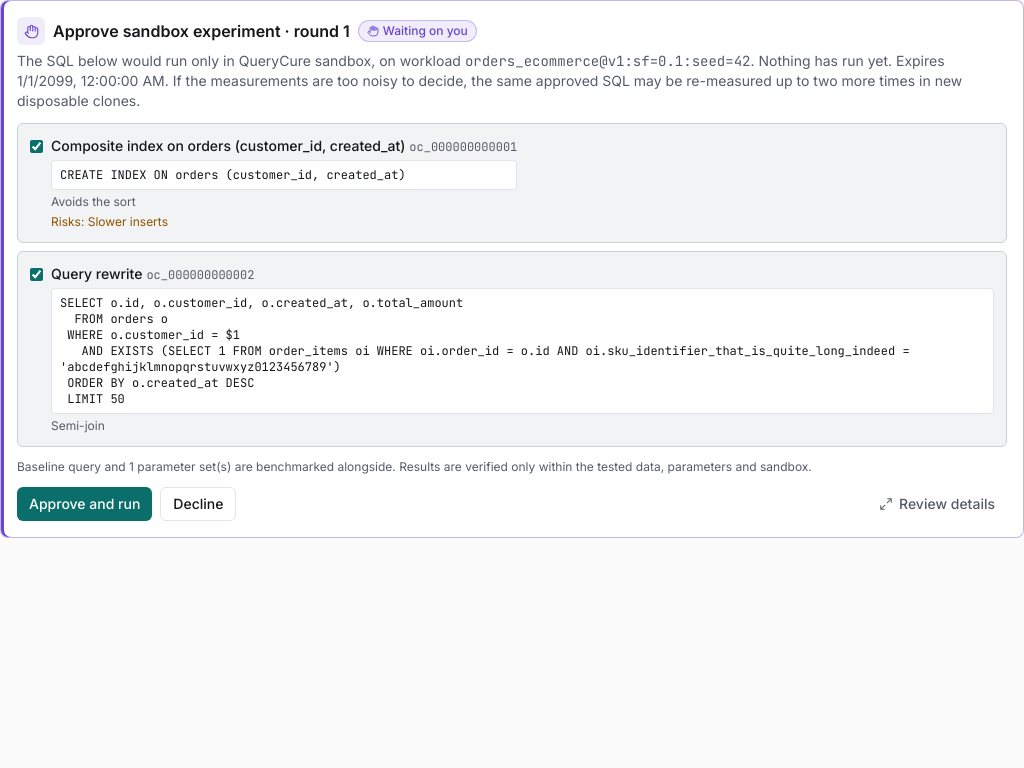
Scenario: a failed copy says so and points to selecting the text
This screenshot has width=1024, height=768.
Click the button "Review details". click: [937, 504]
box: [867, 487, 1007, 521]
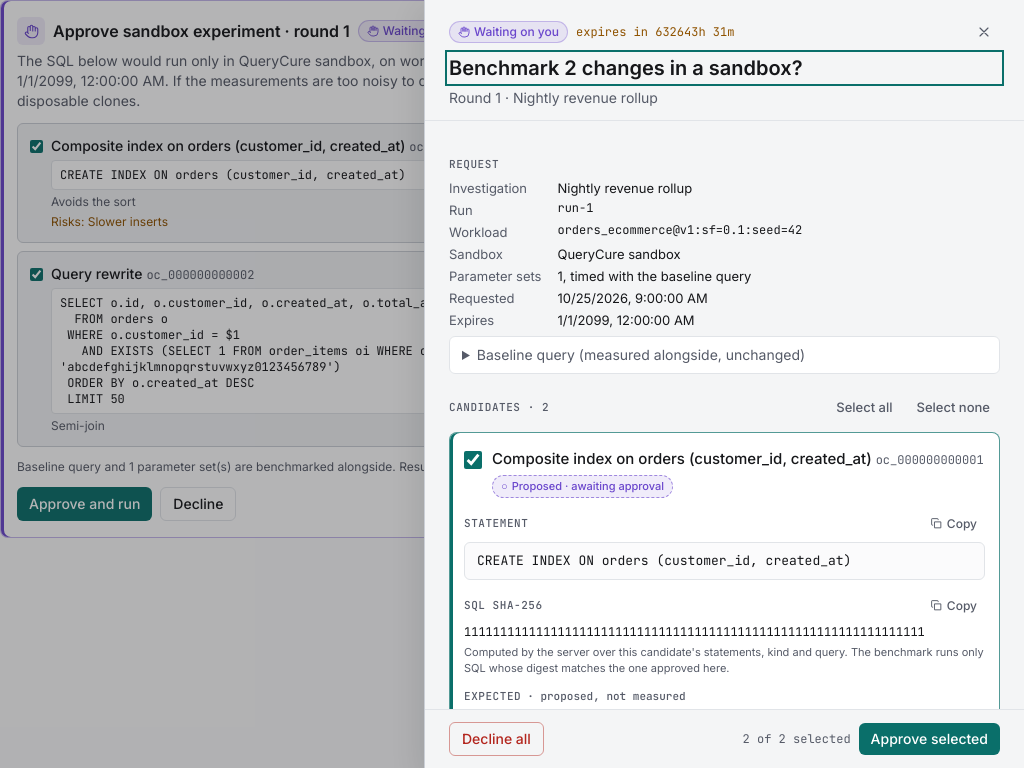
Click the button with aria-label "Copy statement · oc_000000000001". click: [953, 524]
box: [922, 510, 985, 538]
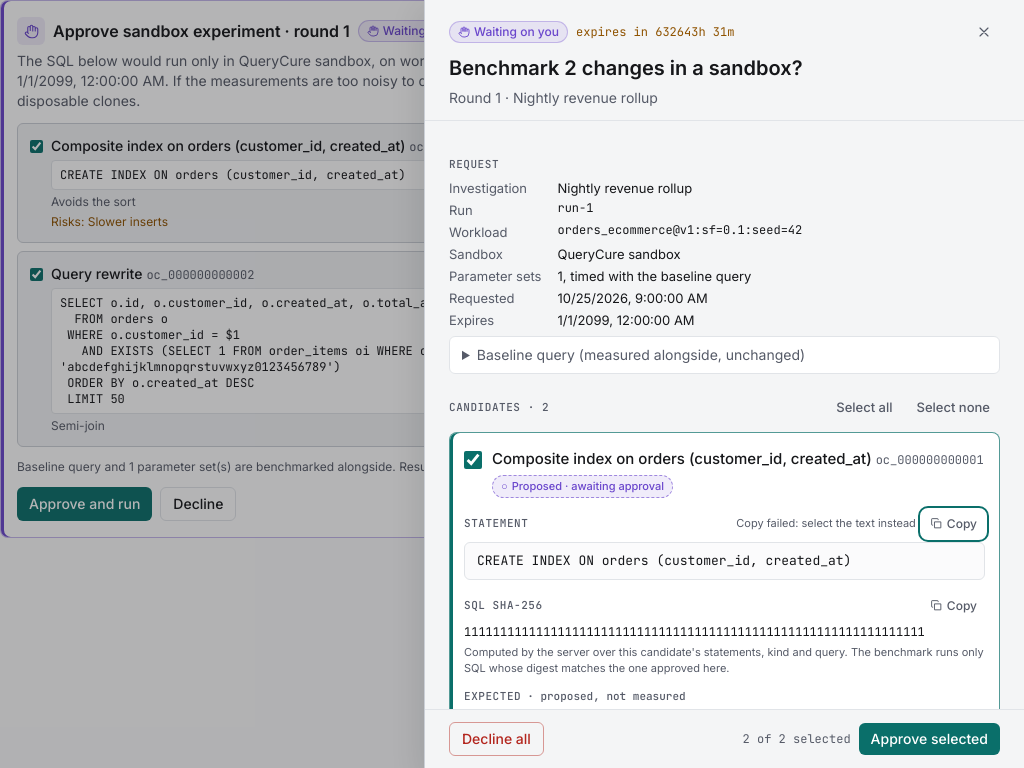
Expected: the text "Copy failed: select the text instead" is shown, [736, 516, 916, 532]
